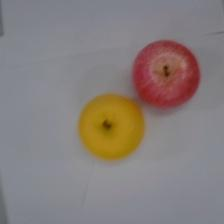red: (131, 39, 200, 109)
yellow: (77, 92, 145, 161)
